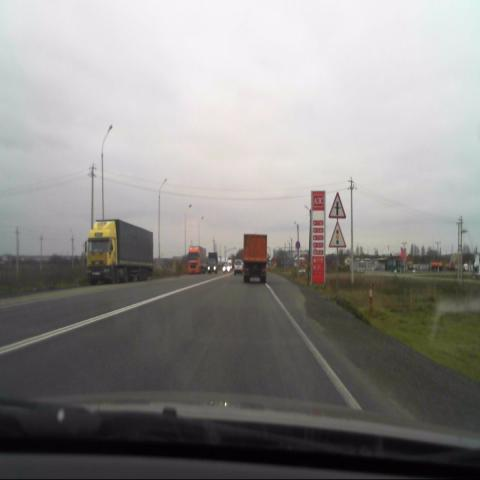1_8: (328, 220, 346, 247)
